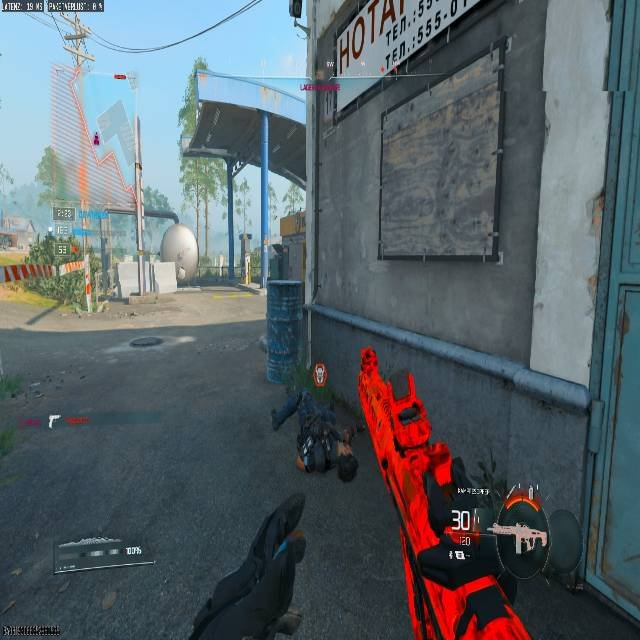player: (275, 361, 358, 481)
